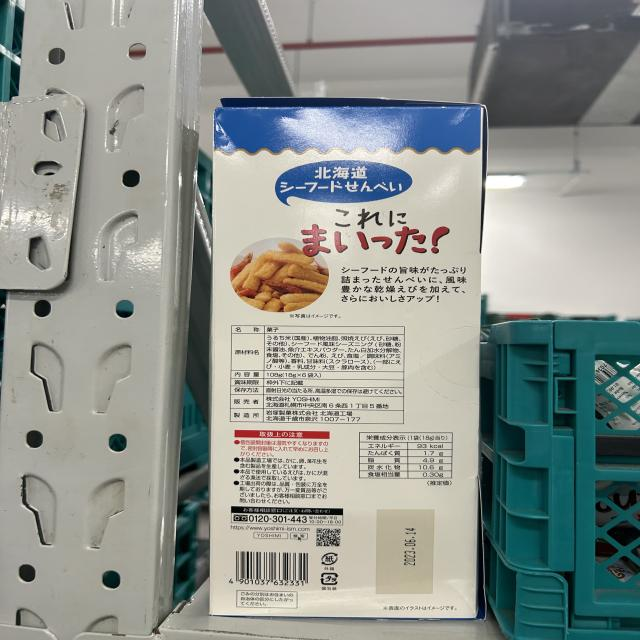object_name: (218, 107, 461, 609)
